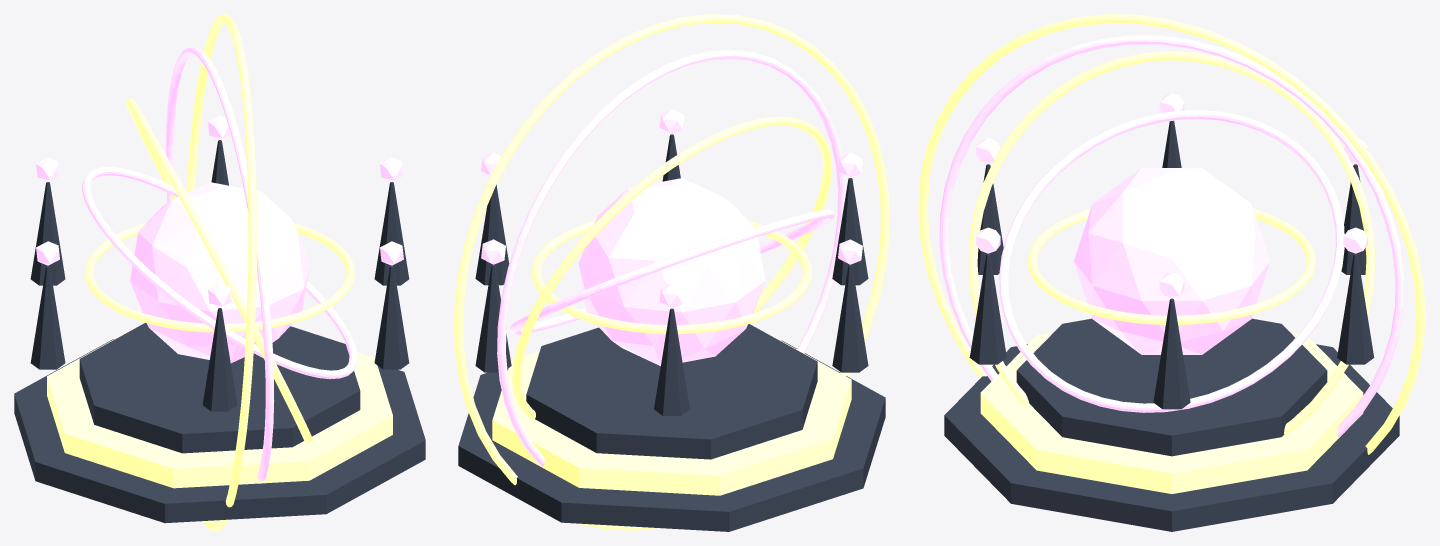
The model's file is gpu-blender-v33.glb.
The picture shows the model from 3 angles, left to right: view 1: azimuth 30°, elevation 25°; view 2: azimuth 150°, elevation 25°; view 3: azimuth 270°, elevation 25°; orthographic projection. The views are drawn at different scales.
Parts seen in each view (by area): view 1: Cylinder.002, Cylinder, SovereignCore_shopify-connector, Cylinder.001, Torus.004, Torus.003, Torus.001, Torus, Torus.002, Cone.004, Cone.003, Cone.005 (+3 smaller); view 2: Cylinder.002, SovereignCore_shopify-connector, Cylinder, Cylinder.001, Torus.004, Torus.003, Torus.002, Torus.001, Torus, Cone.003, Cone.002, Cone.001 (+2 smaller); view 3: SovereignCore_shopify-connector, Cylinder.002, Cylinder, Cylinder.001, Torus.004, Torus.001, Torus.003, Torus.002, Torus, Cone, Cone.001, Cone.005 (+3 smaller).
Boxes of the visible parts, x1,y1,x2,y2 form: Cylinder.002: (79,323,360,453); Cylinder: (14,339,425,523); SovereignCore_shopify-connector: (130,182,309,363); Cylinder.001: (47,330,392,488); Torus.004: (186,14,257,531); Torus.003: (165,47,274,483); Torus.001: (82,166,357,379); Torus: (85,223,354,332); Torus.002: (126,98,312,442); Cone.004: (202,308,237,411); Cone.003: (30,266,65,369); Cone.005: (374,266,409,369); Cylinder.002: (526,324,817,459); SovereignCore_shopify-connector: (578,178,765,366); Cylinder: (458,340,885,531); Cylinder.001: (492,331,851,495); Torus.004: (454,14,889,530); Torus.003: (497,49,846,466); Torus.002: (512,116,831,419); Torus.001: (510,209,833,334); Torus: (531,220,812,333); Cone.003: (832,265,868,372); Cone.002: (654,308,689,415); Cone.001: (475,265,511,372); SovereignCore_shopify-connector: (1073,168,1270,354); Cylinder.002: (1016,318,1327,456); Cylinder: (944,344,1399,531); Cylinder.001: (980,332,1363,493); Torus.004: (918,14,1425,454); Torus.001: (999,110,1344,412); Torus.003: (939,35,1404,437); Torus.002: (968,51,1375,435); Torus: (1027,209,1316,324); Cone: (1153,298,1190,409); Cone.001: (1337,254,1374,364); Cone.005: (969,254,1006,364).
Bounding box in the file's own units: 4.41 × 5.33 × 4.9.
